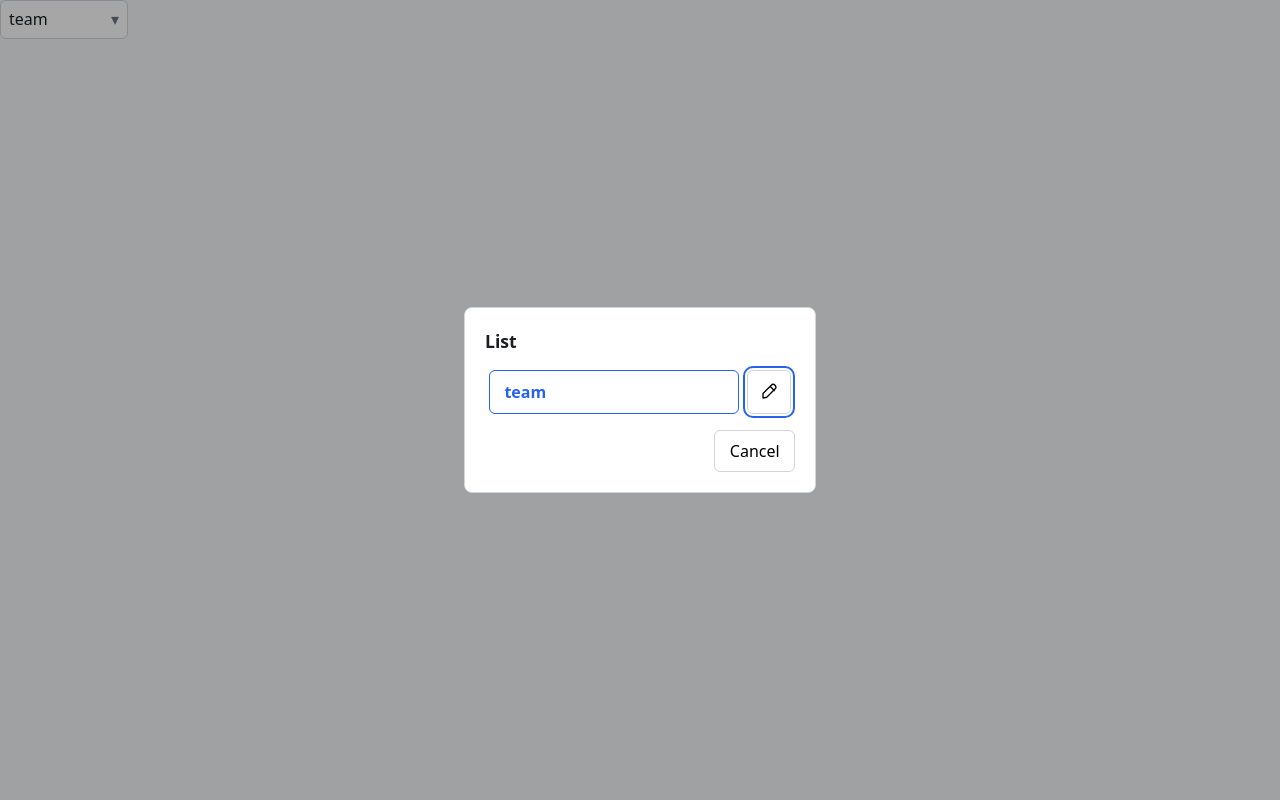
Test: SelectField › waits for the mapped revision before focusing and ignores an obsolete session
Earlier steps of the test are not shown.
Step 1. Click the button "Cancel" → (755, 451), box [714,430,795,472]
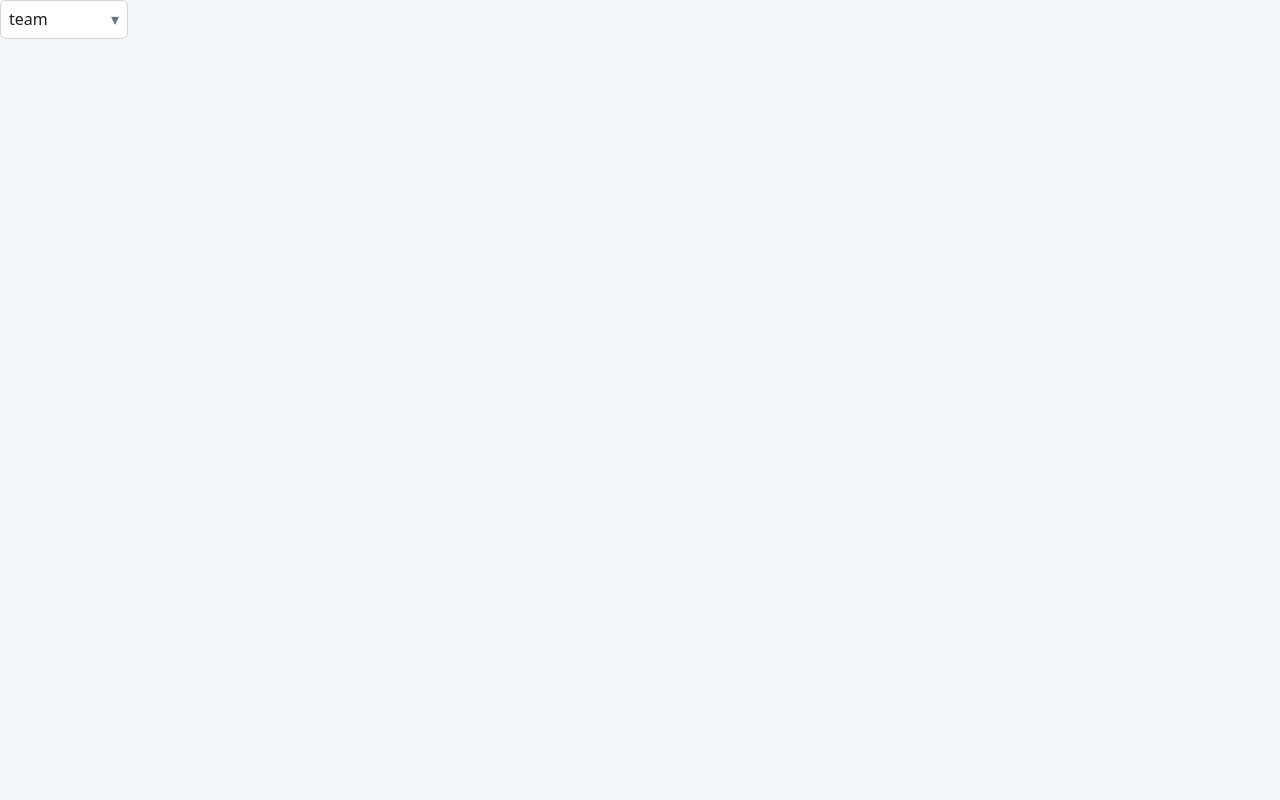
Step 2. Click the button with aria-label "List" → (64, 19), box [0,0,128,39]
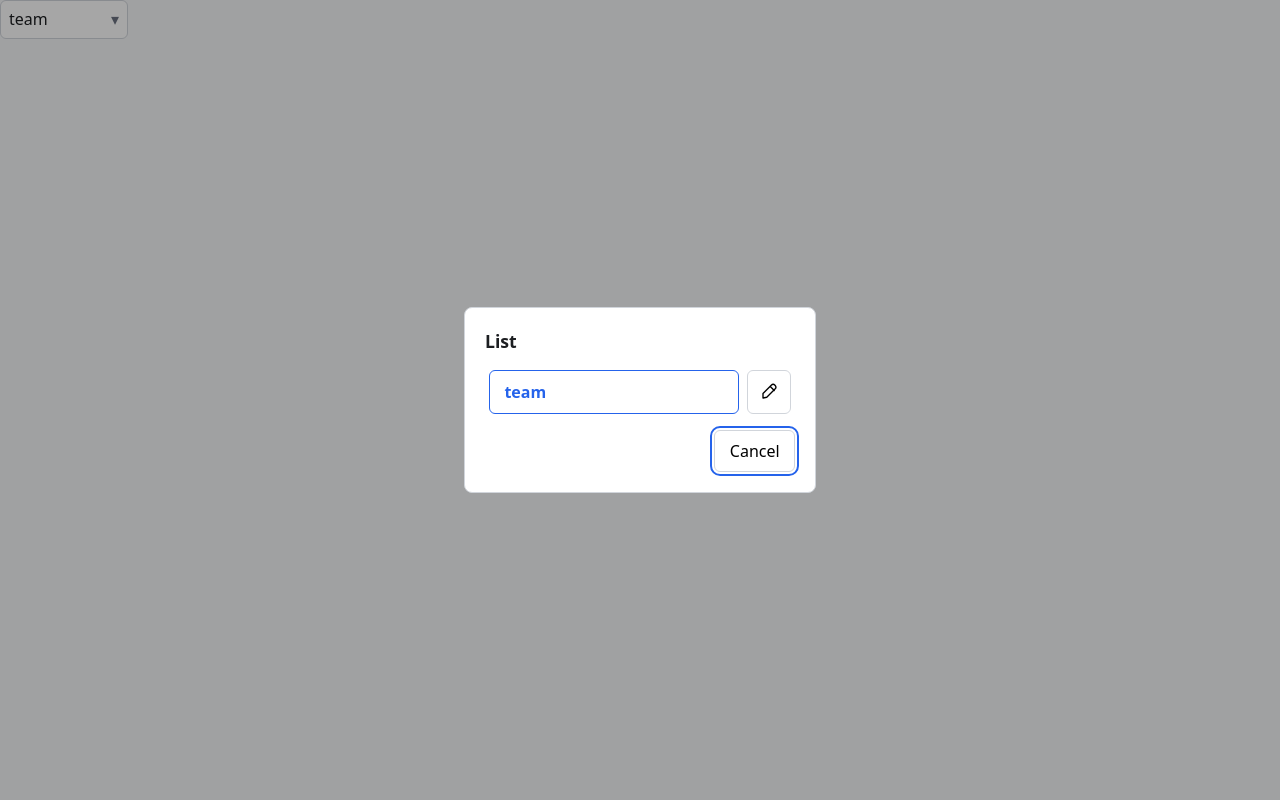
Expected: the dialog with class "select-modal" is shown, [464,307,816,493]
